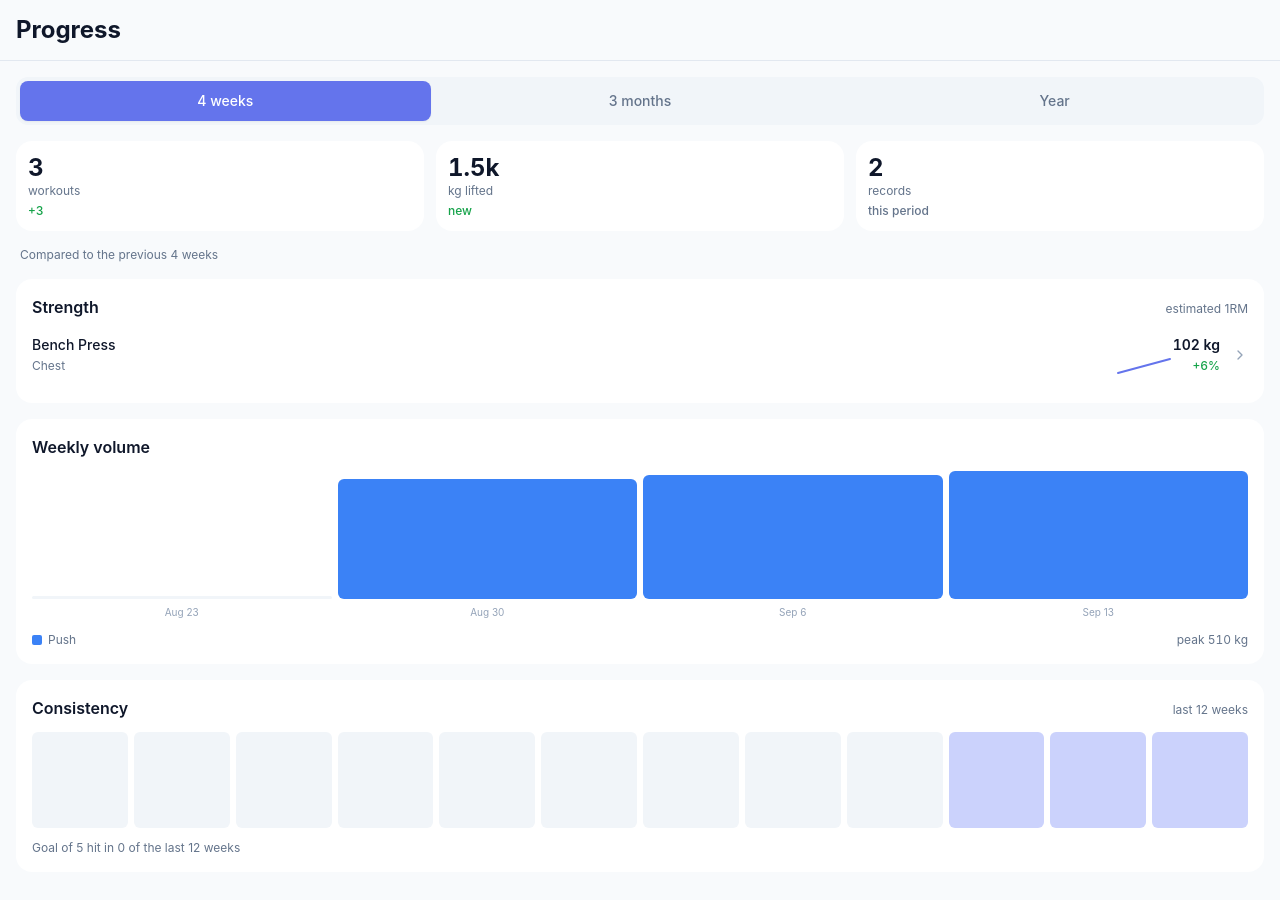
Progress screen › lists strength trends and opens an exercise
Expected: the heading "Progress" is shown, [16, 14, 121, 46]
Expected: the text "102 kg" is shown, [1173, 335, 1220, 355]
Click the text "Bench Press" at point(74, 345), box [32, 335, 116, 355]
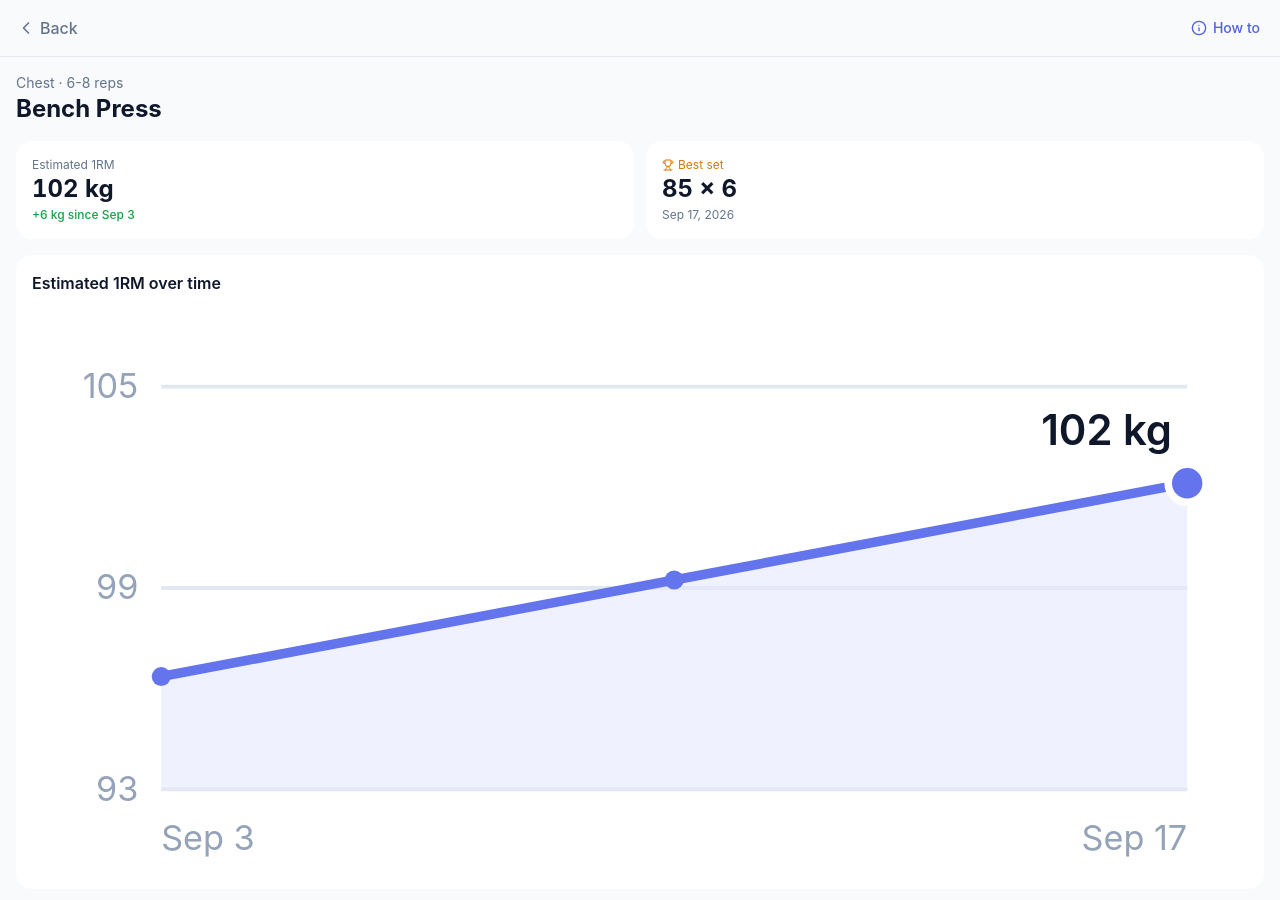
Now the heading "Bench Press" is shown, box [16, 94, 162, 123]
